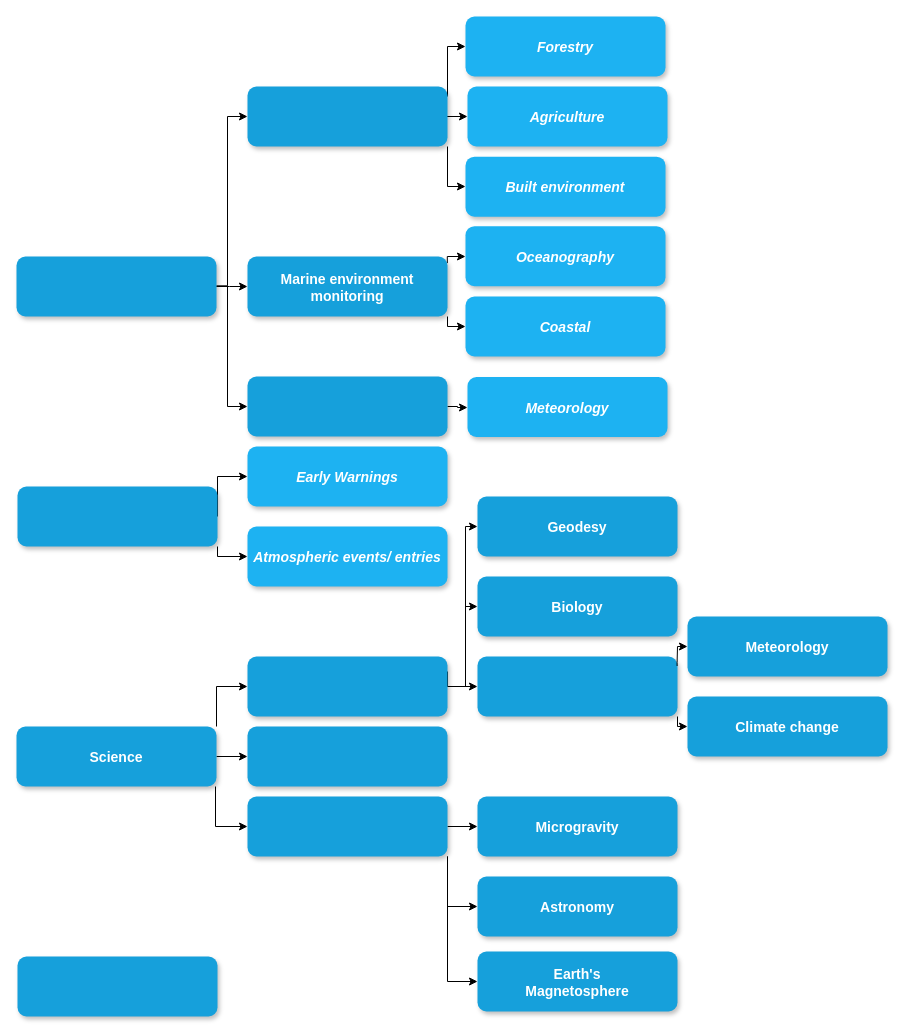
Some shapes in this 904 by 1033 pixel diagram are drawn without their labels. The shapes that lost their labels are listed below. From the top down, each one's centre as x and y in pixels, then its label:
point (348, 117): Land monitoring
point (117, 287): Environmental monitoring
point (348, 407): Atmosphere monitoring
point (118, 517): Emergency management
point (348, 687): Earth Science
point (578, 687): Atmospheric Science
point (348, 757): Technology
point (348, 827): Extra-terrestrial
point (118, 987): Security
